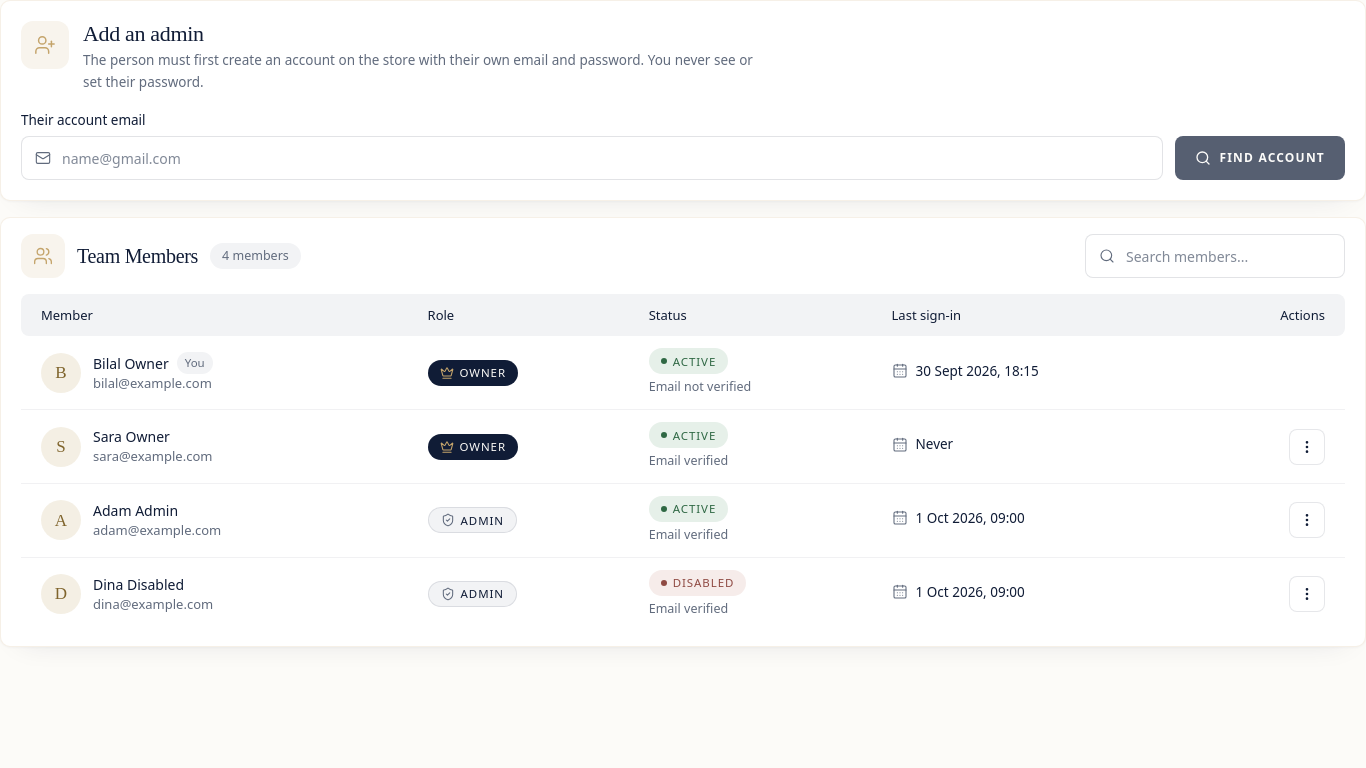
Test case: layout › filters members client-side by name or email
In the search field named "Search team members": x=1215, y=256 [1085, 234, 1345, 278], type "adam@"
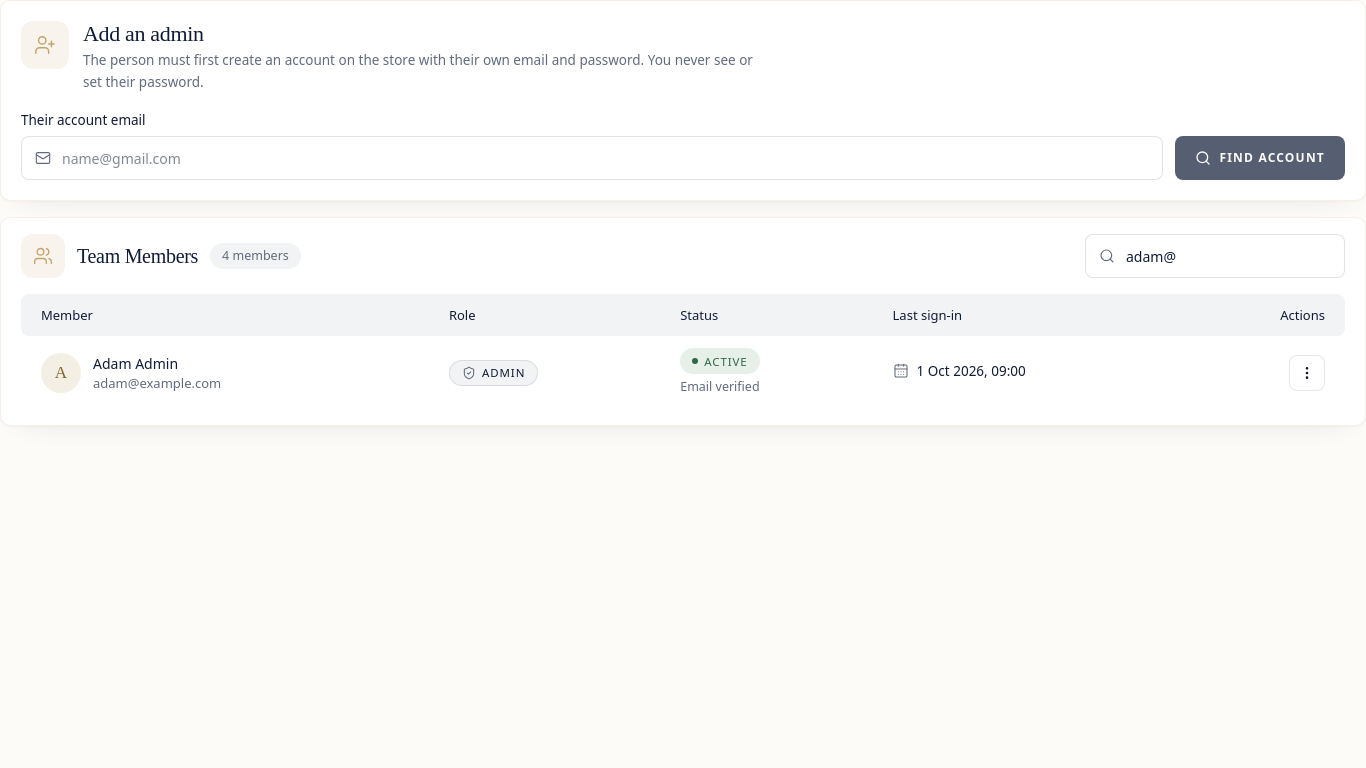
Expected: the text "Adam Admin" is shown, [93, 352, 178, 374]
Replace the text in the search field named "Search team members" with "zzz": x=1215, y=256 [1085, 234, 1345, 278]
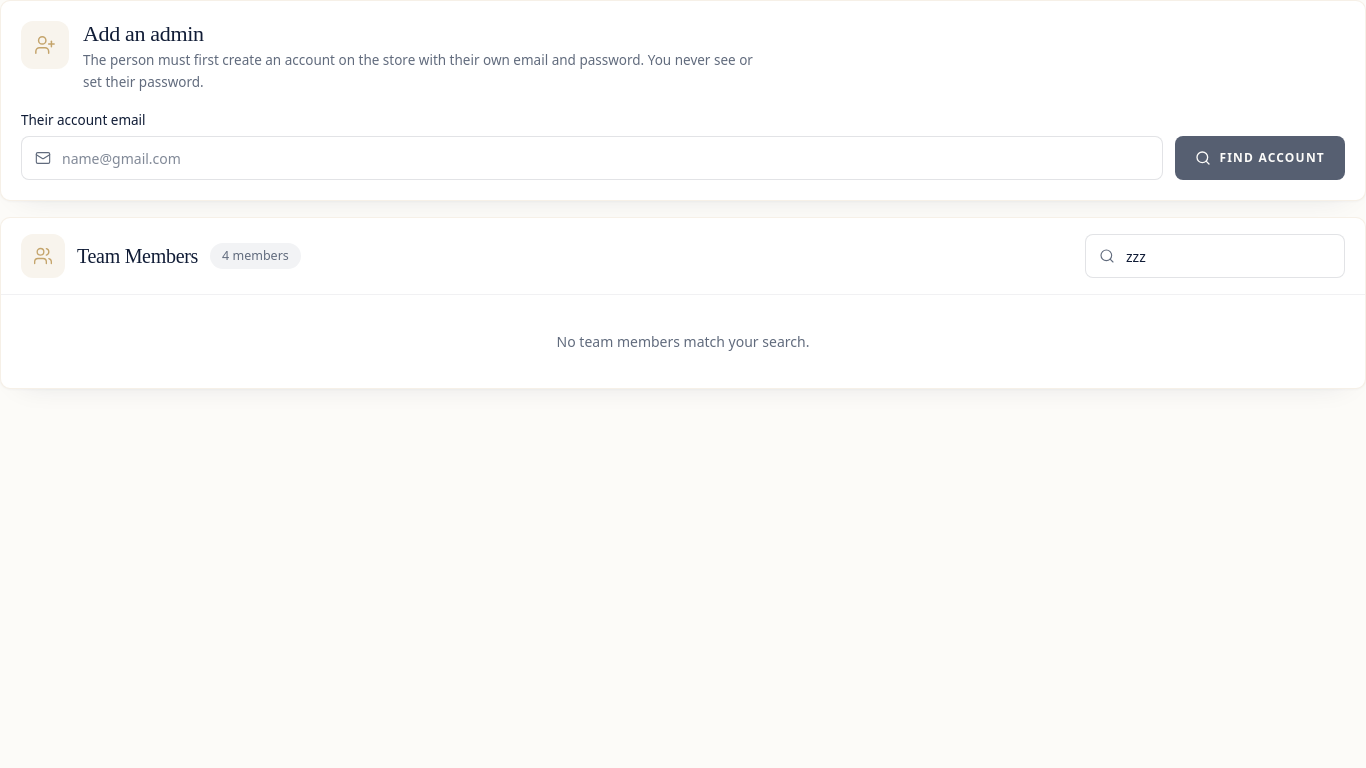
Expected: the text "4 members" is shown, [210, 243, 301, 269]
Result: the text "No team members match your search." is shown at [1, 294, 1365, 388]
